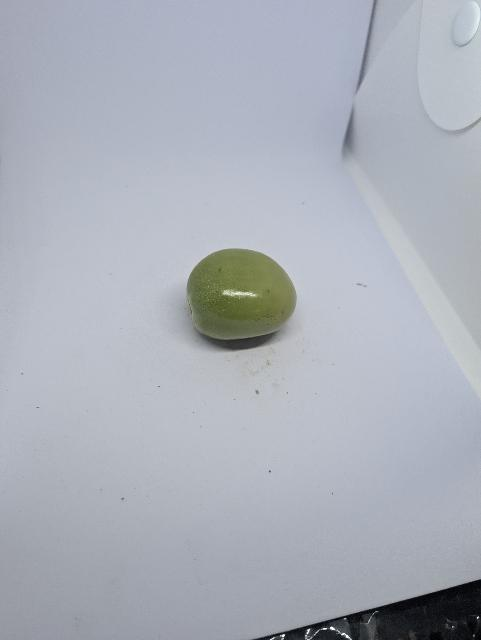green: (184, 245, 300, 343)
